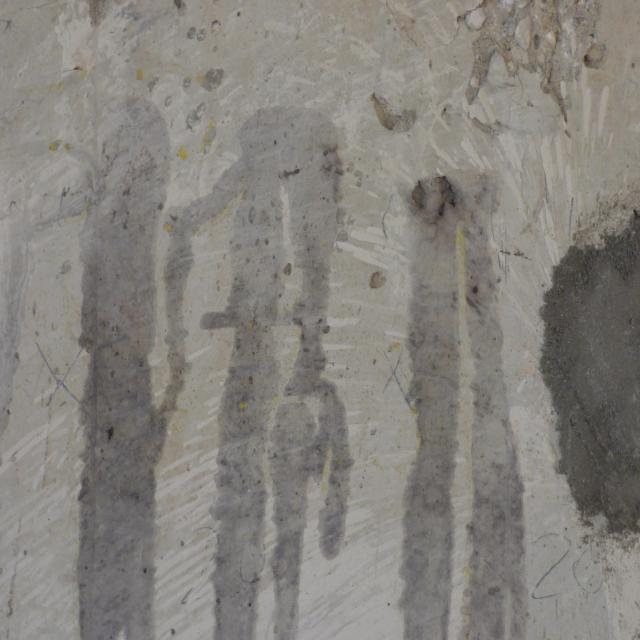concrete spalling: (450, 0, 618, 139)
diagonal crack: (0, 64, 119, 121), (384, 0, 451, 51), (0, 172, 59, 222), (0, 0, 71, 39)
